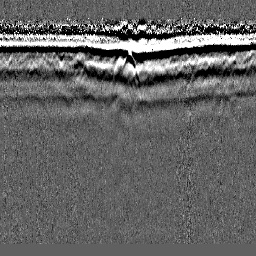cavity: (118, 49, 140, 85)
